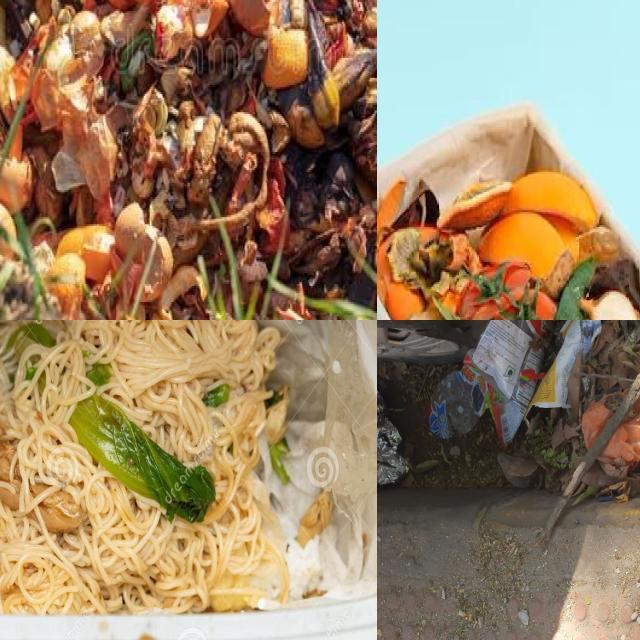Garbage: (0, 320, 290, 615), (377, 103, 640, 320), (377, 320, 640, 507)
Plastic_Bag: (430, 371, 479, 438), (377, 390, 408, 485), (297, 495, 331, 544)
Plastic_wraper: (463, 320, 545, 449), (528, 320, 601, 411)
